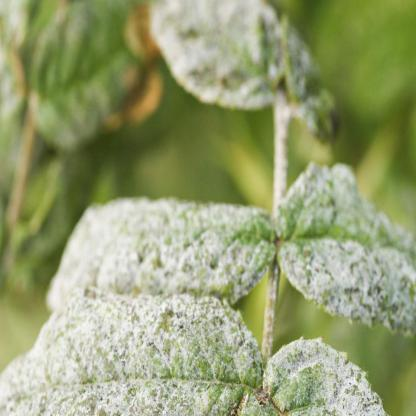Squash Powdery mildew leaf: (7, 290, 261, 415), (40, 193, 278, 316), (150, 1, 346, 141), (277, 154, 416, 332), (256, 335, 381, 415)
